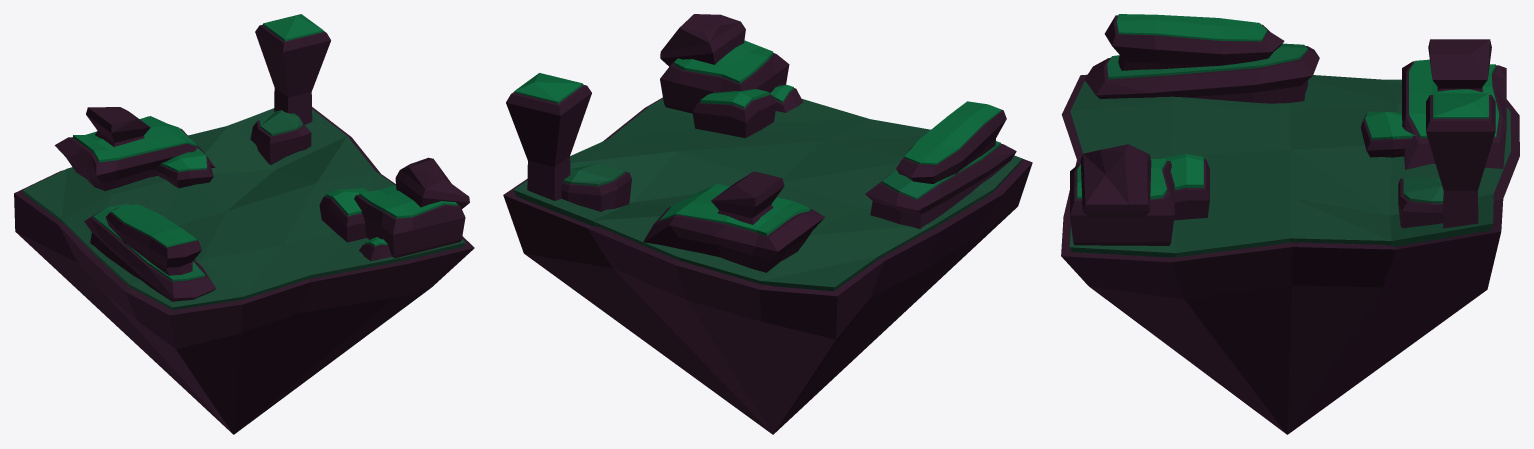
File: Ilha_1.fbx
3 views of the same model, side by side, from view 1: azimuth 30°, elevation 25°; view 2: azimuth 150°, elevation 25°; view 3: azimuth 270°, elevation 25° (orthographic). The views are drawn at different scales.
Parts seen in each view (by area): view 1: Ilha 1; view 2: Ilha 1; view 3: Ilha 1.
Part boxes in pixels (x1,y1,x2,y2): Ilha 1: (14,14,474,434); Ilha 1: (503,14,1032,434); Ilha 1: (1061,14,1519,434).
Size of the model in its own units: 200 by 200 by 200.
